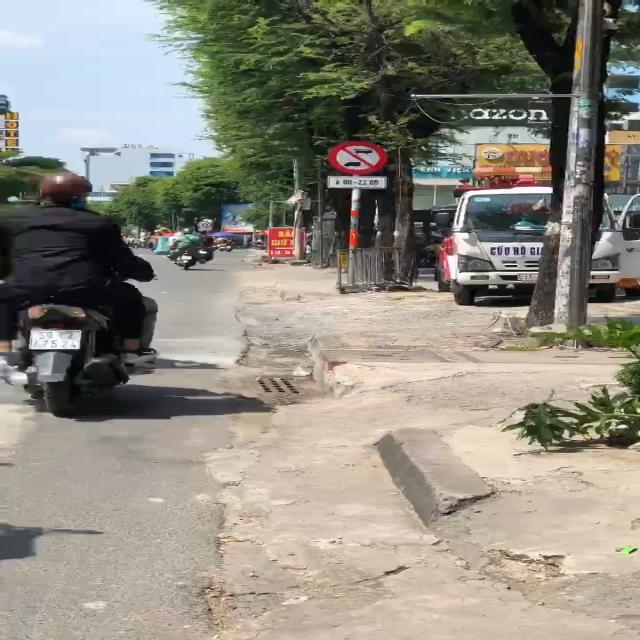Bien bao cam xe oto khach va xe oto tai: (326, 139, 393, 175)
